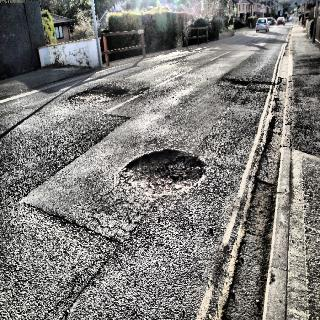pothole: (122, 141, 207, 213), (53, 85, 138, 124), (216, 64, 267, 96)
